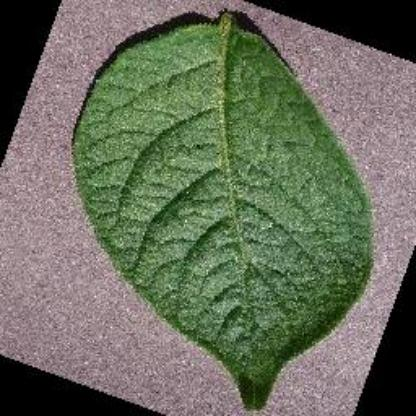Healthy-plant: (43, 12, 393, 416)
